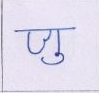aa_matra: (58, 31, 60, 55)
